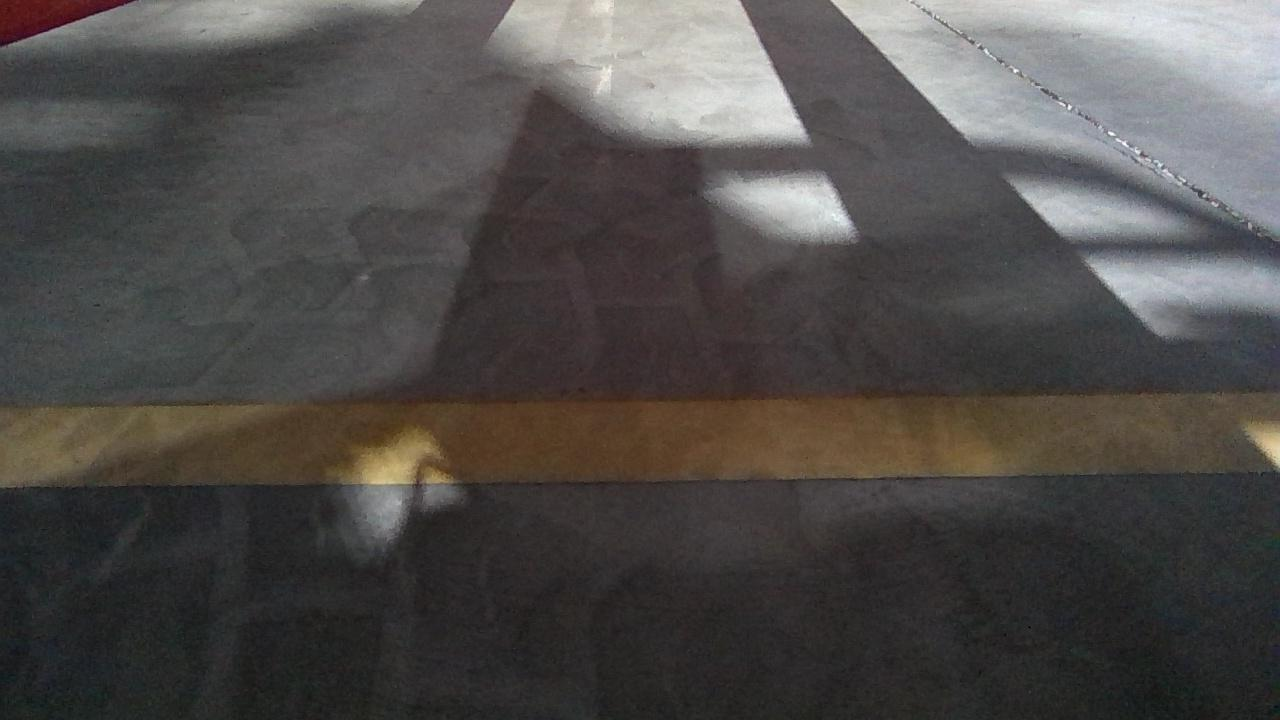yellow_line: (0, 409, 1280, 469)
